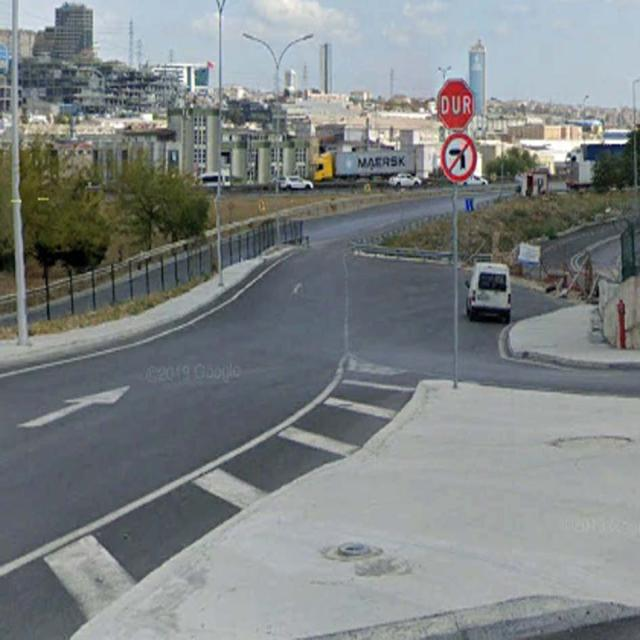dur: (438, 79, 476, 131)
soladonulmez: (441, 133, 478, 183)
